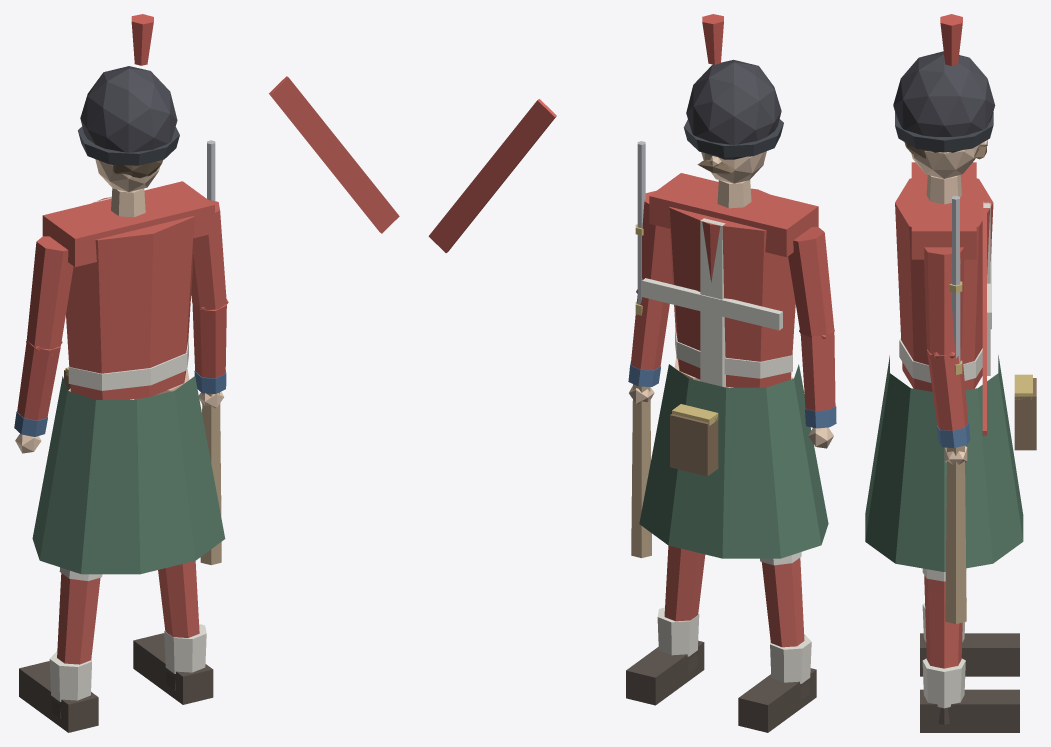
The model's file is black_watch_sergeant.glb.
3 views of the same model, side by side, from view 1: azimuth 30°, elevation 25°; view 2: azimuth 150°, elevation 25°; view 3: azimuth 270°, elevation 25° (orthographic). The views are drawn at different scales.
Visible parts, largest first — view 1: scarlet, tartan_g, feather, boot, hose_red, buff, sash, skin, wood_lt, tartan_k, facing_blue, hackle; view 2: scarlet, tartan_g, buff, feather, boot, hose_red, sash, skin, wood_lt, leather, tartan_k, facing_blue (+3 smaller); view 3: tartan_g, scarlet, feather, boot, buff, wood_lt, skin, hose_red, tartan_k, leather, steel, sash (+3 smaller).
Part boxes in pixels (left/top/right/bottom): scarlet: left=17, top=181, right=228, bottom=420; tartan_g: left=32, top=376, right=225, bottom=574; feather: left=80, top=66, right=177, bottom=152; boot: left=19, top=633, right=213, bottom=732; hose_red: left=57, top=561, right=199, bottom=664; buff: left=49, top=197, right=206, bottom=701; sash: left=269, top=76, right=399, bottom=233; skin: left=15, top=159, right=223, bottom=453; wood_lt: left=200, top=392, right=221, bottom=565; tartan_k: left=78, top=126, right=179, bottom=165; facing_blue: left=14, top=370, right=226, bottom=436; hackle: left=131, top=14, right=153, bottom=65; scarlet: left=630, top=173, right=835, bottom=411; tartan_g: left=639, top=364, right=828, bottom=558; buff: left=642, top=218, right=811, bottom=683; feather: left=686, top=59, right=781, bottom=159; boot: left=626, top=640, right=816, bottom=732; hose_red: left=664, top=545, right=804, bottom=647; sash: left=428, top=99, right=556, bottom=252; skin: left=629, top=151, right=833, bottom=448; wood_lt: left=631, top=384, right=651, bottom=558; leather: left=670, top=414, right=718, bottom=476; tartan_k: left=683, top=119, right=783, bottom=157; facing_blue: left=628, top=362, right=836, bottom=428; tartan_g: left=865, top=355, right=1023, bottom=571; scarlet: left=895, top=162, right=993, bottom=430; feather: left=893, top=51, right=995, bottom=152; boot: left=920, top=633, right=1019, bottom=732; buff: left=899, top=202, right=991, bottom=708; wood_lt: left=945, top=445, right=966, bottom=623; skin: left=911, top=140, right=987, bottom=464; hose_red: left=924, top=575, right=962, bottom=668; tartan_k: left=895, top=112, right=993, bottom=152; leather: left=1014, top=378, right=1036, bottom=450; steel: left=951, top=196, right=960, bottom=363; sash: left=982, top=209, right=986, bottom=435.
Bounding box in the file's own units: 1.27 × 2.09 × 0.4727.
